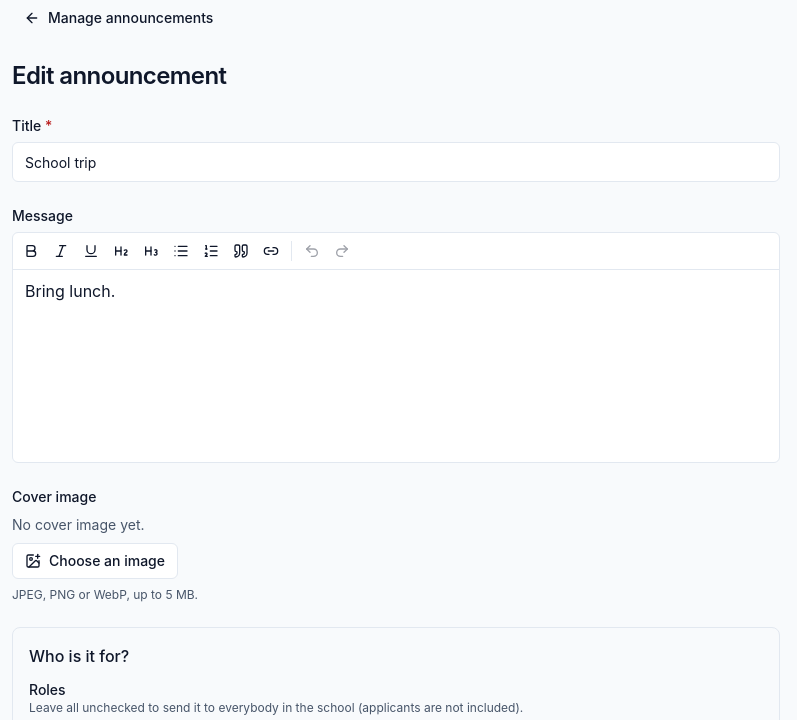
AnnouncementEditPage › does not let unsaved changes be published
Step 1. Replace the text in the field labelled "Title *" with "Changed" → (396, 162), box [12, 142, 780, 182]
(page scrolled)
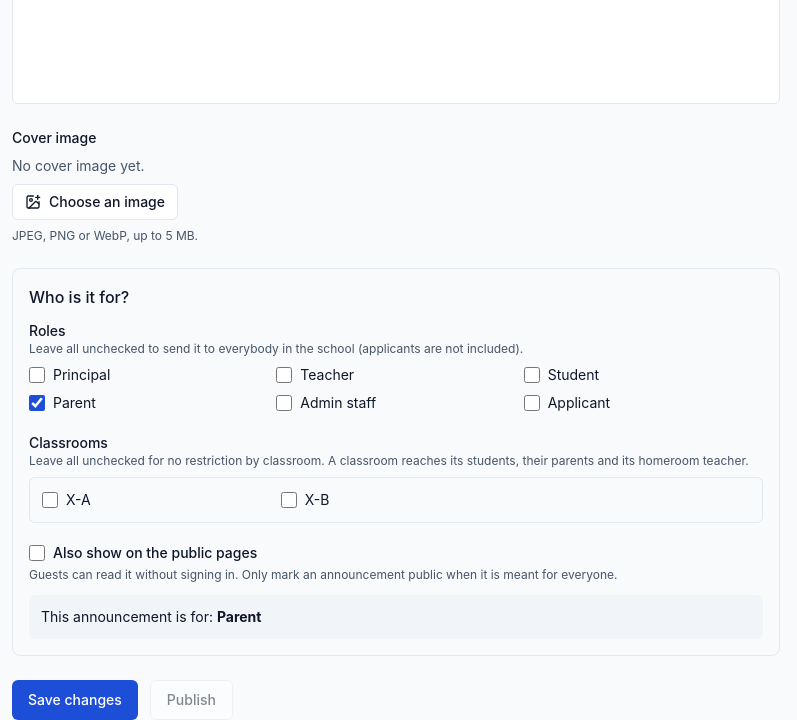
Now the button "Publish" is disabled, box [150, 680, 233, 719]
